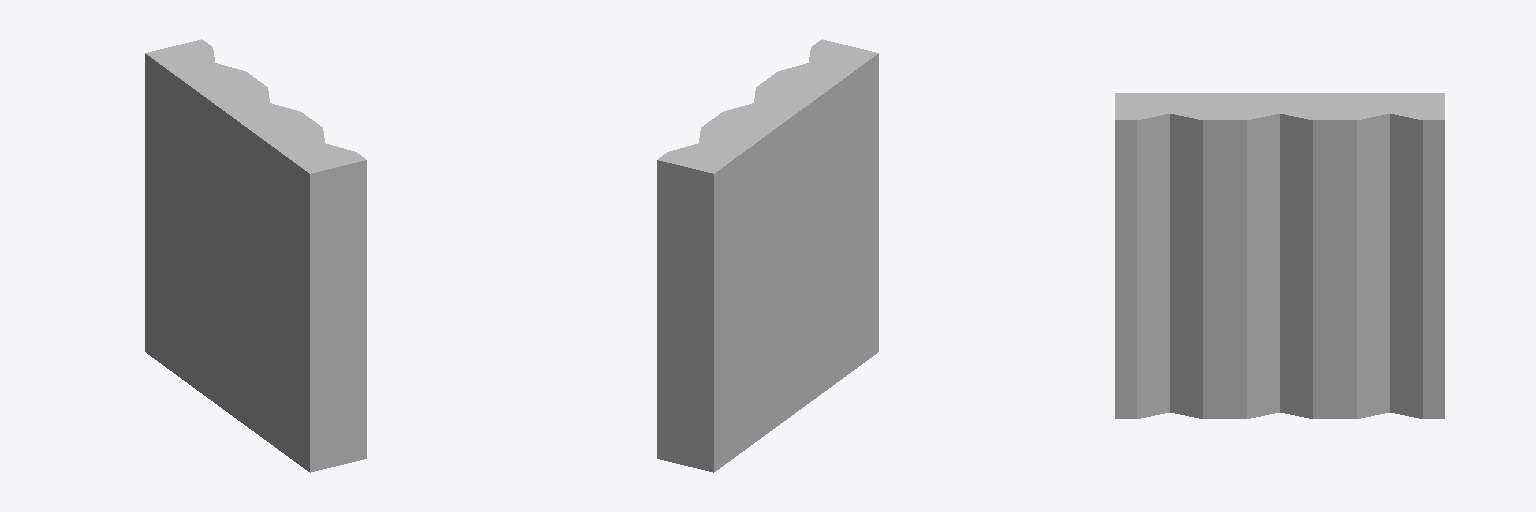
The model's file is Spacestation_Structure_Ribbed_Straight_Vertical.obj.
3 renders of one model, left to right at view 1: azimuth 30°, elevation 25°; view 2: azimuth 150°, elevation 25°; view 3: azimuth 270°, elevation 25°, orthographic.
Visible parts, largest first — view 1: object1; view 2: object1; view 3: object1.
Part boxes in pixels (x1,y1,x2,y2): object1: (145, 39, 366, 472); object1: (657, 39, 878, 472); object1: (1115, 93, 1444, 418).
Size of the model in its own units: 0.2 by 1 by 1.